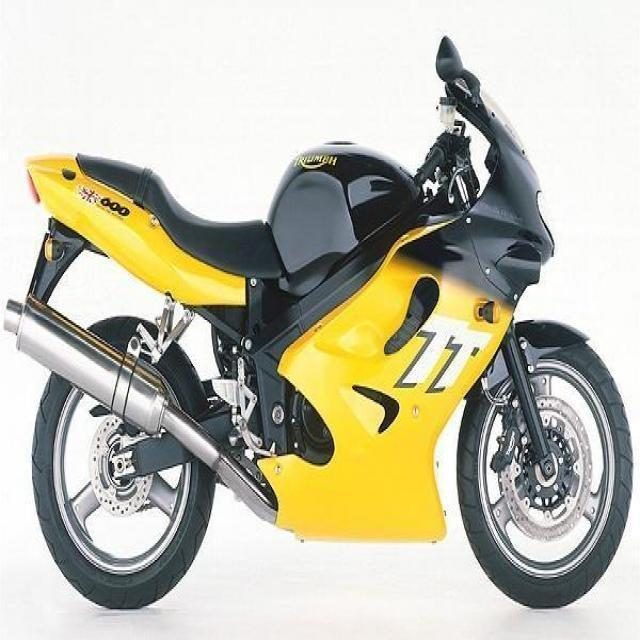Motorcycle: (22, 38, 635, 612)
